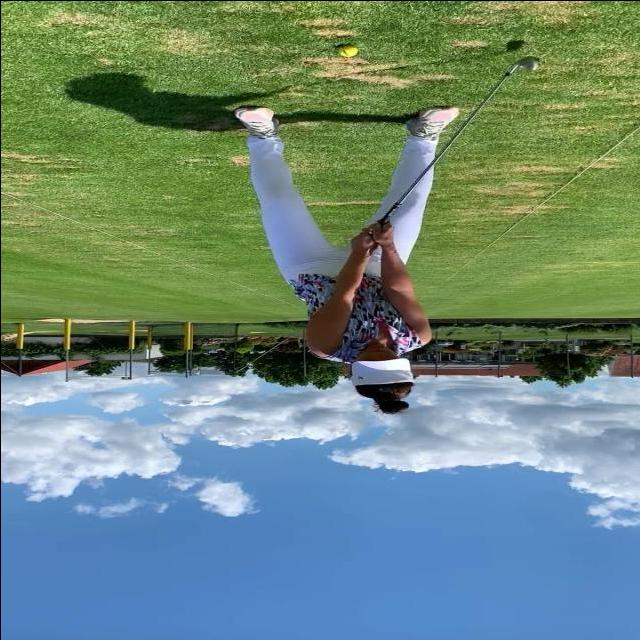ClubHandle: (379, 55, 539, 225)
ClubHead: (517, 55, 539, 71)
GolfBall: (337, 44, 357, 56)
